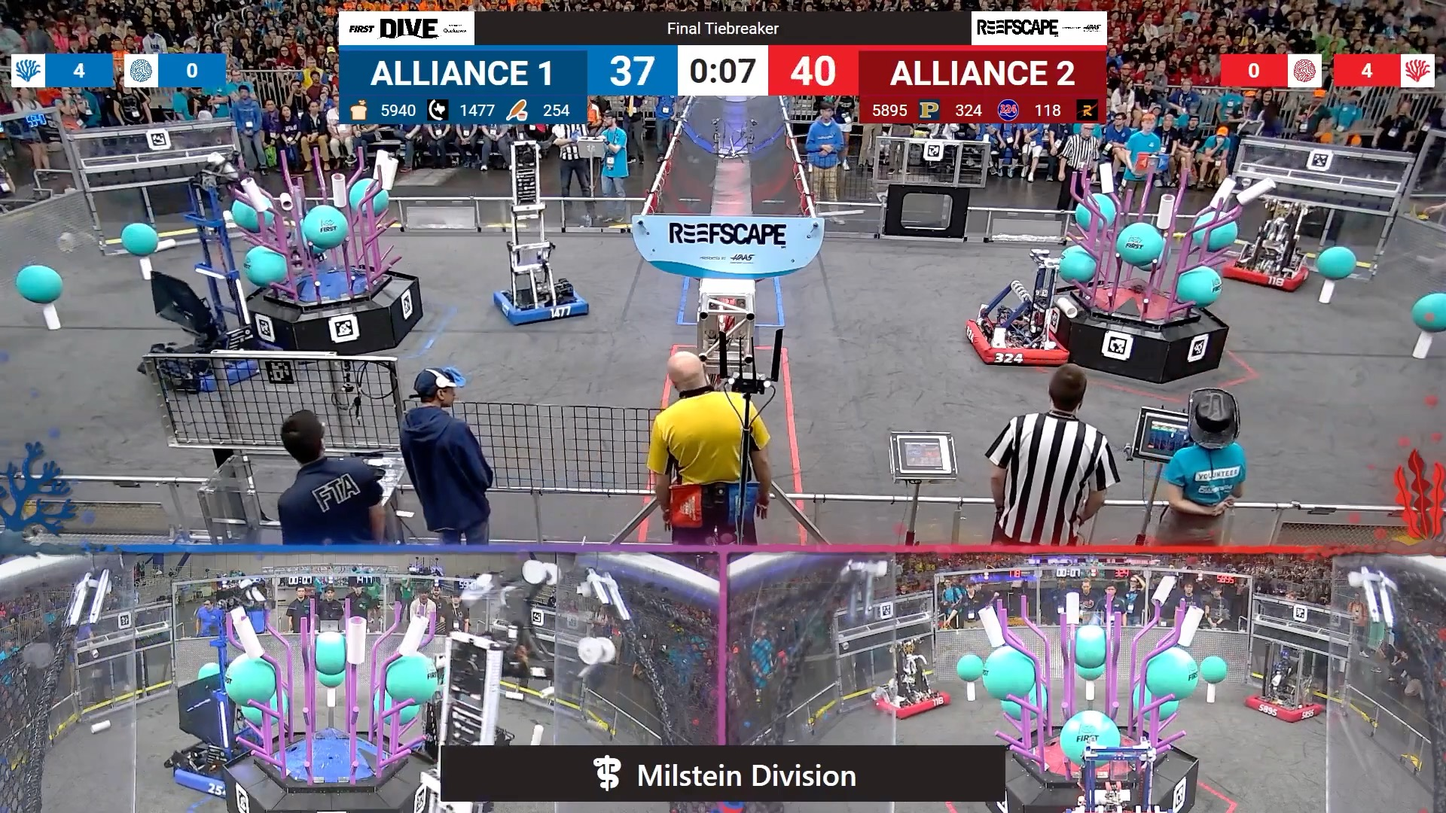bumpers: (964, 314, 1077, 374), (157, 339, 271, 392), (489, 285, 596, 329), (1218, 254, 1318, 296), (166, 748, 245, 795), (1242, 692, 1334, 726), (869, 688, 954, 720)
